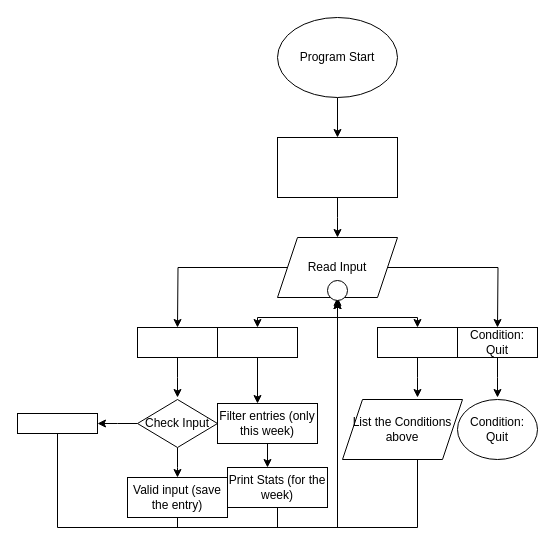
Image size: 555x553. Some labels were removed from this diagram. Each missing label, with the centre of its shape:
"Condition: Help" goes at point (417, 342).
"Condition: Log" goes at point (177, 342).
"Condition: Stats" goes at point (257, 342).
"Invalid Input" goes at point (57, 423).
"Loads the Saved Entries" goes at point (337, 167).
